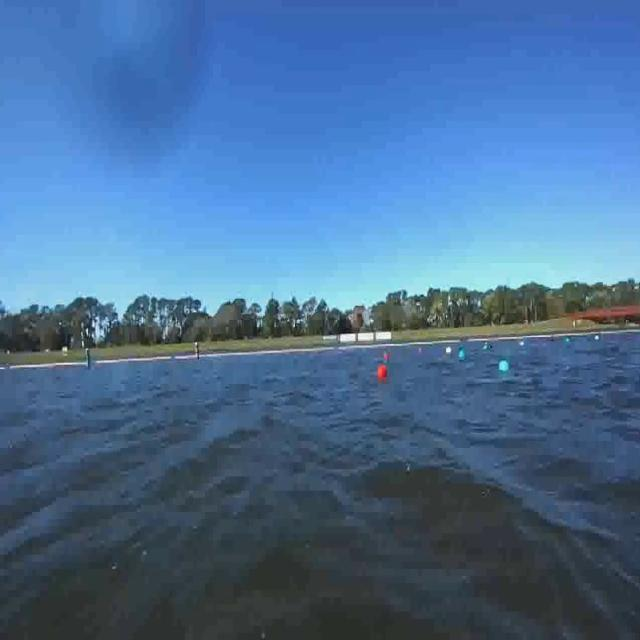green-buoy: (497, 358, 510, 376), (458, 352, 467, 363)
red-buoy: (378, 364, 389, 381)
yellow-buoy: (446, 344, 452, 357)
